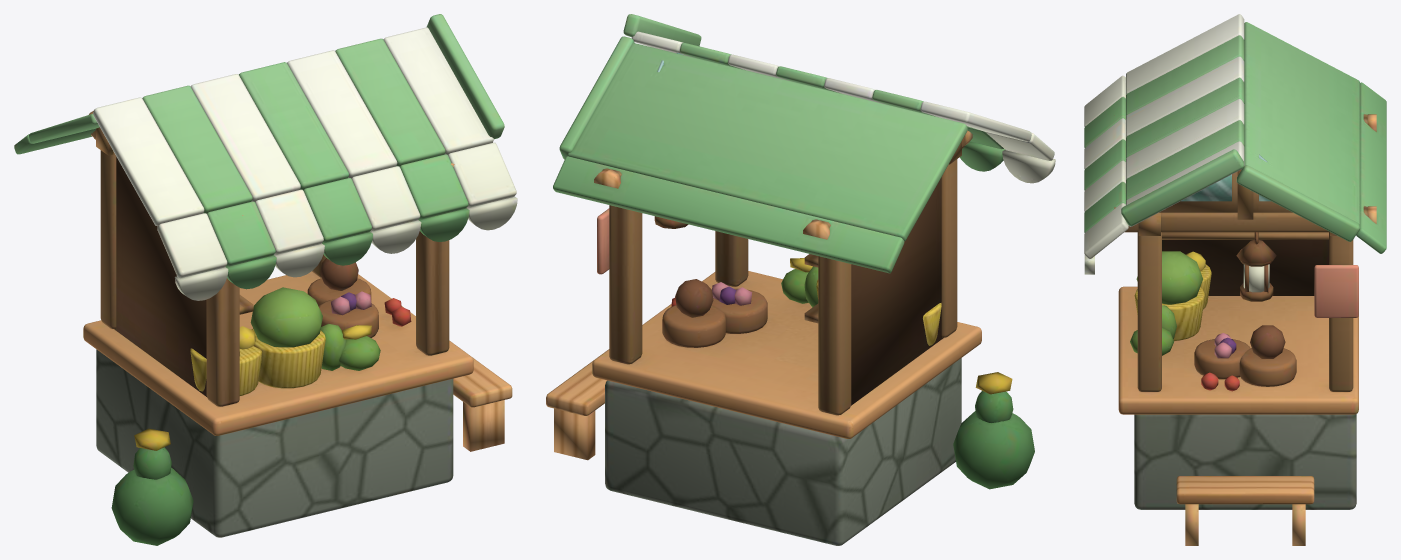
The model's file is awning_stall_3_high.glb.
The picture shows the model from 3 angles, left to right: view 1: azimuth 30°, elevation 25°; view 2: azimuth 150°, elevation 25°; view 3: azimuth 270°, elevation 25°; orthographic projection. The views are drawn at different scales.
Visible parts, largest first — view 1: awning_stall_3; view 2: awning_stall_3; view 3: awning_stall_3.
Boxes of the visible parts, x1,y1,x2,y2 form: awning_stall_3: (14, 14, 517, 545); awning_stall_3: (546, 14, 1055, 545); awning_stall_3: (1084, 14, 1386, 545).
Bounding box in the file's own units: 1.88 × 1.88 × 1.36.
1 material, 1 textured.
